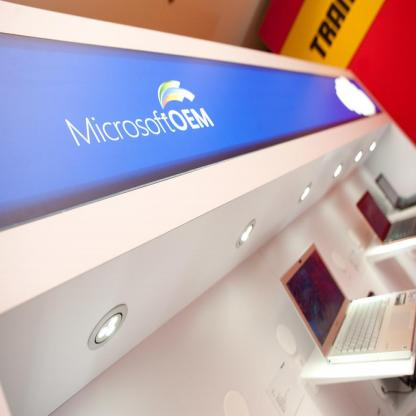board: (283, 234, 411, 392), (356, 190, 416, 244), (376, 174, 416, 209)
